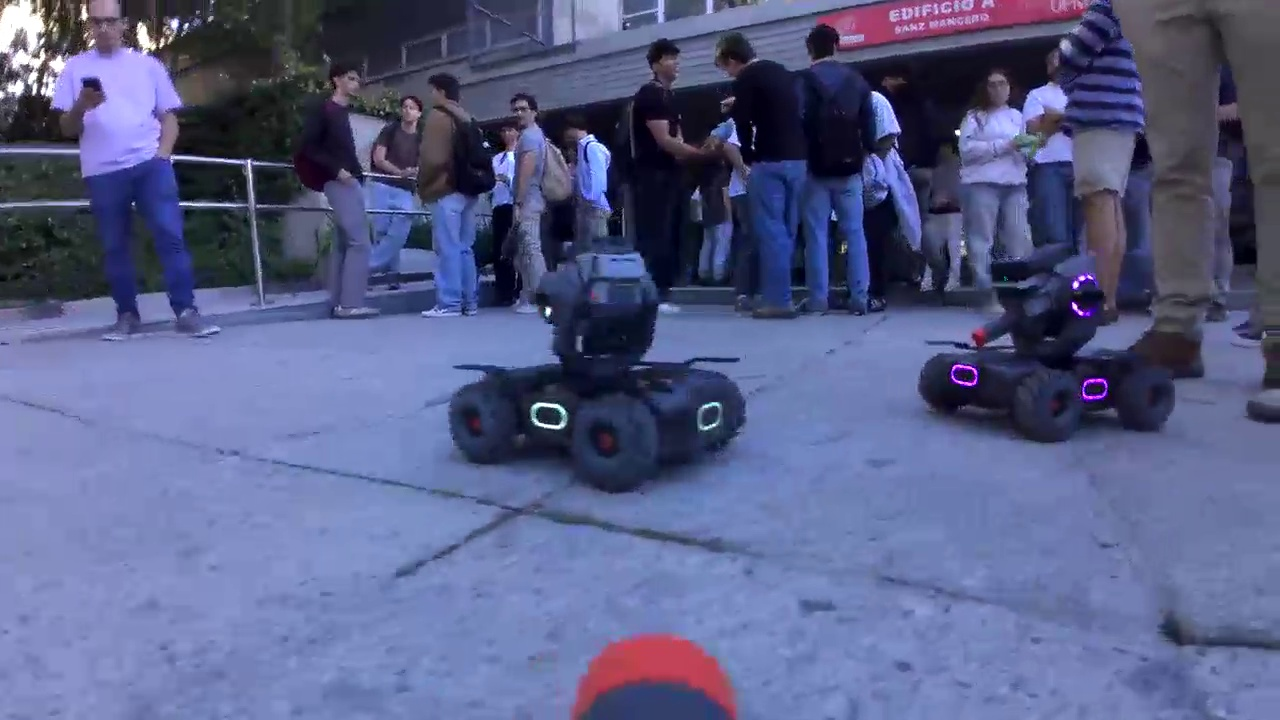robot: (447, 241, 750, 496), (919, 240, 1178, 445)
